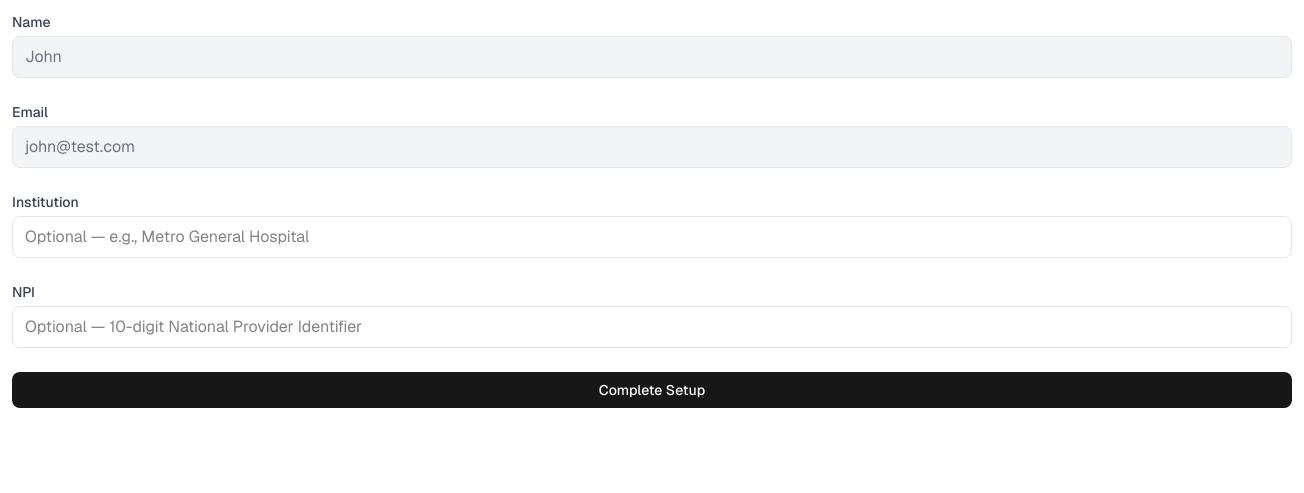
Test: OnboardingForm › shows error on API failure
The width and height of the screenshot is (1304, 493).
Click the button "Complete Setup".
click(652, 390)  # box [12,372,1292,408]
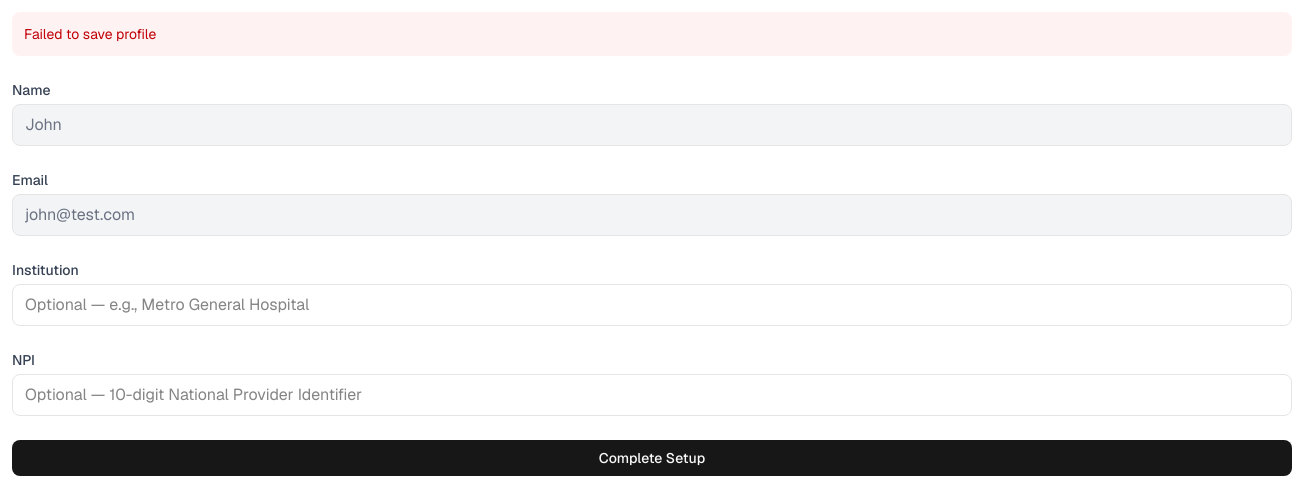
expect the text "Failed to save profile" is shown: met, box [12,12,1292,56]
